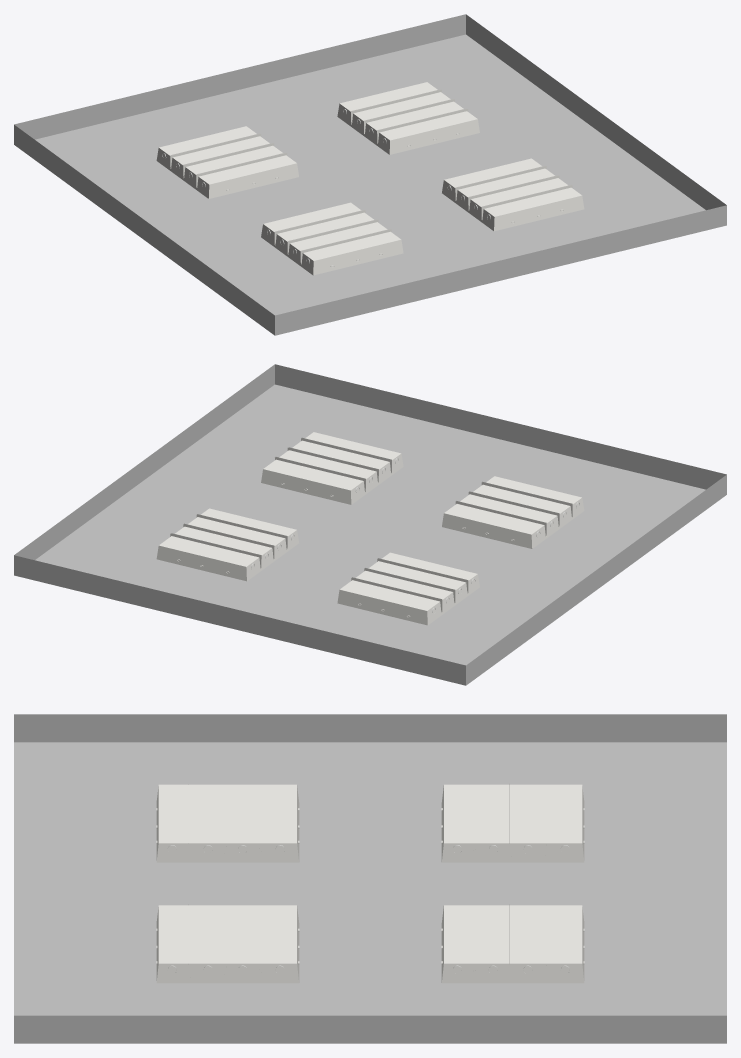
File: SM_Ceiling_Lights_SingleSided_Capped.fbx
The picture shows the model from 3 angles, top to bottom: view 1: azimuth 30°, elevation 25°; view 2: azimuth 150°, elevation 25°; view 3: azimuth 270°, elevation 25°; orthographic projection. The views are drawn at different scales.
Visible parts, largest first — view 1: SM_Ceiling_Lights_SingleSided_Capped; view 2: SM_Ceiling_Lights_SingleSided_Capped; view 3: SM_Ceiling_Lights_SingleSided_Capped.
Part boxes in pixels (x1,y1,x2,y2): SM_Ceiling_Lights_SingleSided_Capped: (14, 14, 726, 335); SM_Ceiling_Lights_SingleSided_Capped: (14, 364, 726, 685); SM_Ceiling_Lights_SingleSided_Capped: (14, 714, 726, 1043).
Bounding box in the file's own units: 700 × 700 × 30.
